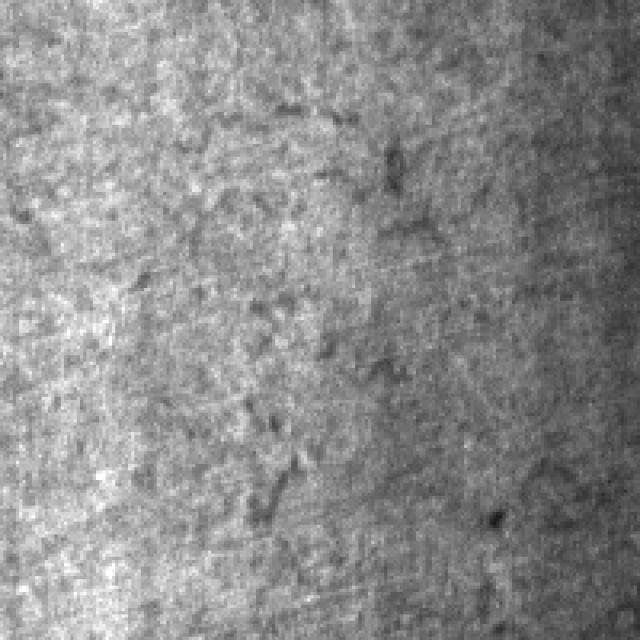crazing: (86, 93, 570, 301), (234, 326, 630, 528)
